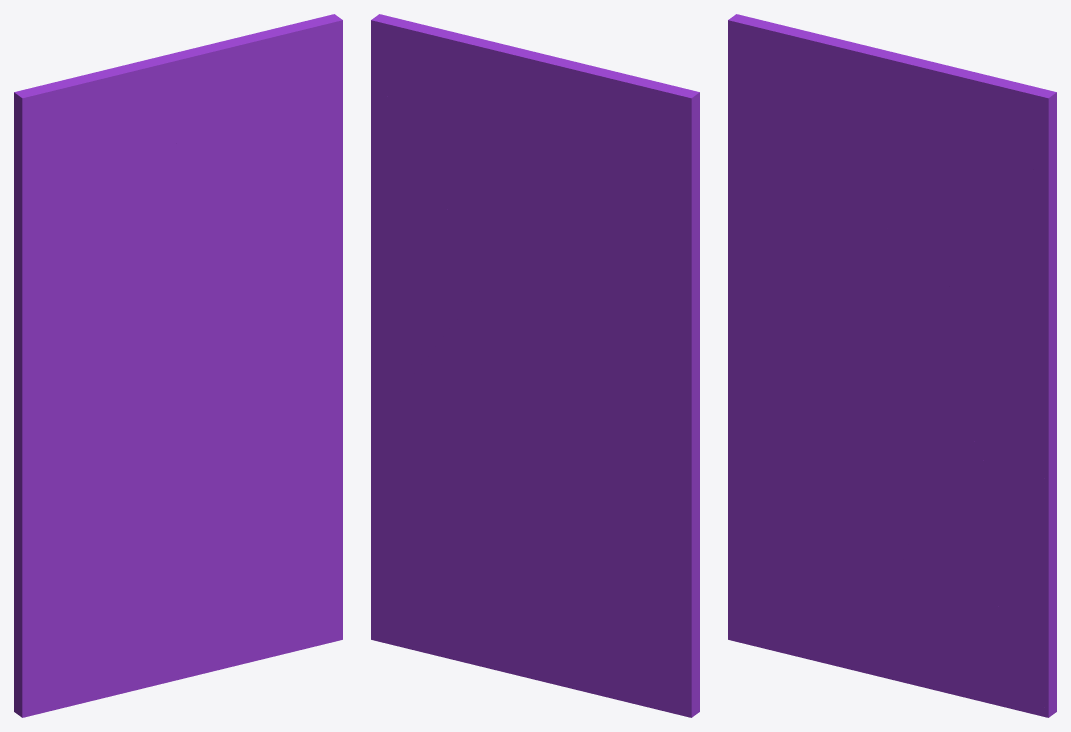
Rendered from Glass_54_chunks.fbx.
3 renders of one model, left to right at view 1: azimuth 30°, elevation 25°; view 2: azimuth 150°, elevation 25°; view 3: azimuth 330°, elevation 25°, orthographic.
Visible parts, largest first — view 1: Glass_54_1, Glass_54_8, Glass_54_7, Glass_54_9, Glass_54_10, Glass_54_3, Glass_54_5, Glass_54_15, Glass_54_11, Glass_54_24, Glass_54_18, Glass_54_20 (+10 smaller); view 2: Glass_54_1, Glass_54_7, Glass_54_9, Glass_54_12, Glass_54_5, Glass_54_8, Glass_54_15, Glass_54_3, Glass_54_11, Glass_54_21, Glass_54_20, Glass_54_18 (+10 smaller); view 3: Glass_54_1, Glass_54_8, Glass_54_7, Glass_54_5, Glass_54_15, Glass_54_3, Glass_54_10, Glass_54_9, Glass_54_11, Glass_54_24, Glass_54_18, Glass_54_20 (+10 smaller).
Part boxes in pixels (<box>): Glass_54_1: <box>154,506,342,685</box>; Glass_54_8: <box>183,14,342,266</box>; Glass_54_7: <box>14,227,238,402</box>; Glass_54_9: <box>14,392,94,643</box>; Glass_54_10: <box>15,551,157,717</box>; Glass_54_3: <box>94,371,265,521</box>; Glass_54_5: <box>252,401,342,636</box>; Glass_54_15: <box>243,72,342,304</box>; Glass_54_11: <box>70,387,178,568</box>; Glass_54_24: <box>109,22,299,131</box>; Glass_54_18: <box>14,228,181,402</box>; Glass_54_20: <box>14,92,159,226</box>; Glass_54_1: <box>373,501,602,696</box>; Glass_54_7: <box>471,217,699,403</box>; Glass_54_9: <box>619,393,699,646</box>; Glass_54_12: <box>552,551,693,717</box>; Glass_54_5: <box>371,394,463,639</box>; Glass_54_8: <box>371,14,520,253</box>; Glass_54_15: <box>371,67,471,300</box>; Glass_54_3: <box>455,370,616,520</box>; Glass_54_11: <box>532,387,642,568</box>; Glass_54_21: <box>416,45,573,207</box>; Glass_54_20: <box>552,86,699,240</box>; Glass_54_18: <box>544,216,699,396</box>; Glass_54_1: <box>860,533,1051,717</box>; Glass_54_8: <box>889,83,1056,293</box>; Glass_54_7: <box>729,227,943,365</box>; Glass_54_5: <box>958,466,1056,715</box>; Glass_54_15: <box>949,139,1056,362</box>; Glass_54_3: <box>800,344,970,546</box>; Glass_54_10: <box>728,508,862,658</box>; Glass_54_9: <box>728,324,800,560</box>; Glass_54_11: <box>776,338,883,556</box>; Glass_54_24: <box>815,37,1021,123</box>; Glass_54_18: <box>728,193,887,324</box>; Glass_54_20: <box>728,15,864,175</box>.
Size of the model in its own units: 598 by 1104 by 27.2.
